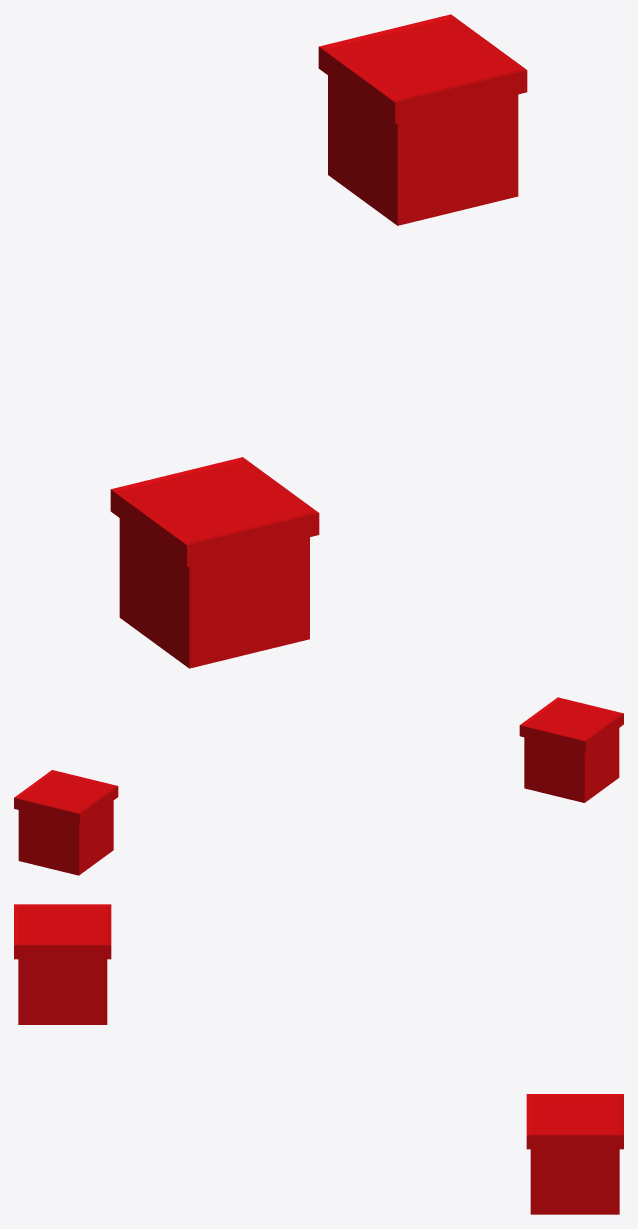
Rendered from Blender_AR_test.gltf.
3 renders of one model, top to bottom at view 1: azimuth 30°, elevation 25°; view 2: azimuth 150°, elevation 25°; view 3: azimuth 270°, elevation 25°, orthographic. The views are drawn at different scales.
Parts seen in each view (by area): view 1: Cube.002, Cube.001; view 2: Cube.001, Cube.002; view 3: Cube.001, Cube.002.
Boxes of the visible parts, <box> form: Cube.002: <box>318,14,527,225</box>; Cube.001: <box>110,457,319,668</box>; Cube.001: <box>519,697,623,802</box>; Cube.002: <box>14,770,118,875</box>; Cube.001: <box>14,904,111,1024</box>; Cube.002: <box>526,1094,623,1214</box>.
Size of what is drawn, in the model's own units: 4.92 by 0.8061 by 5.49.
